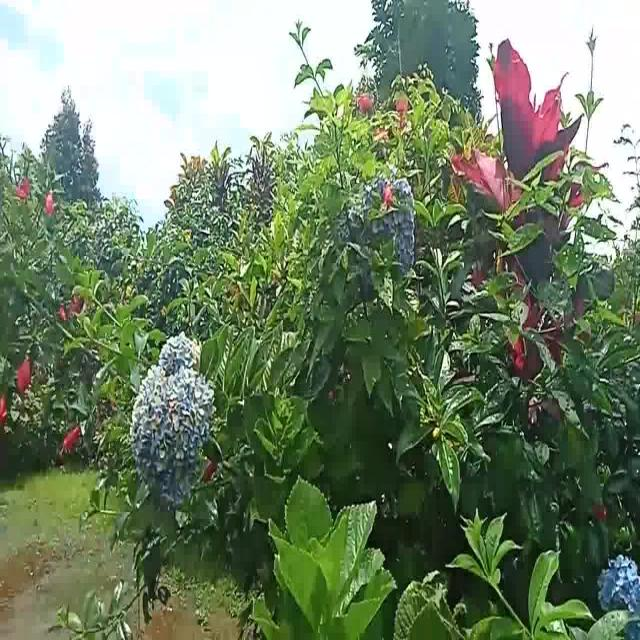Flower: (131, 331, 215, 491), (600, 551, 640, 624)
